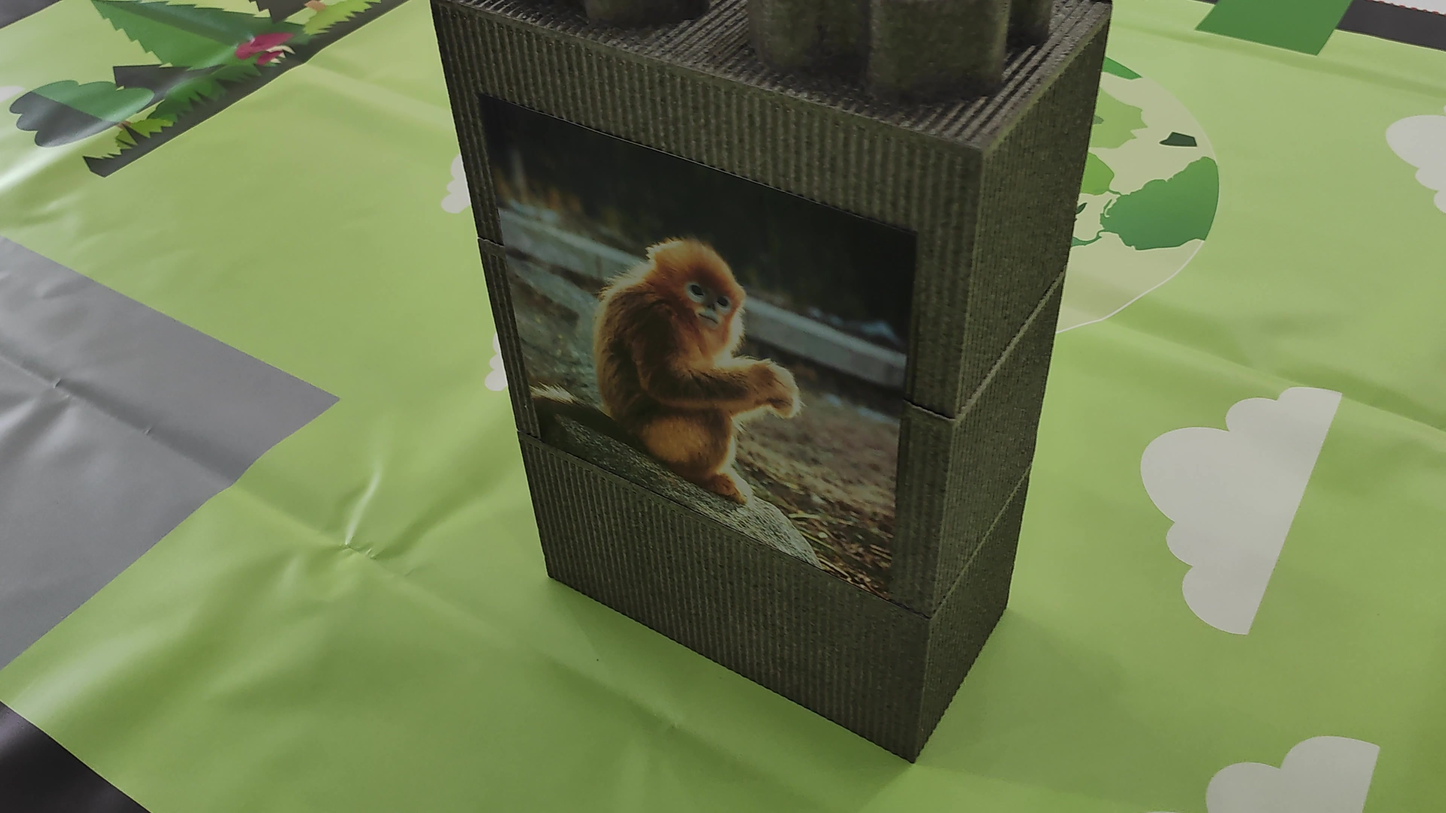monkey: (546, 209, 816, 499)
